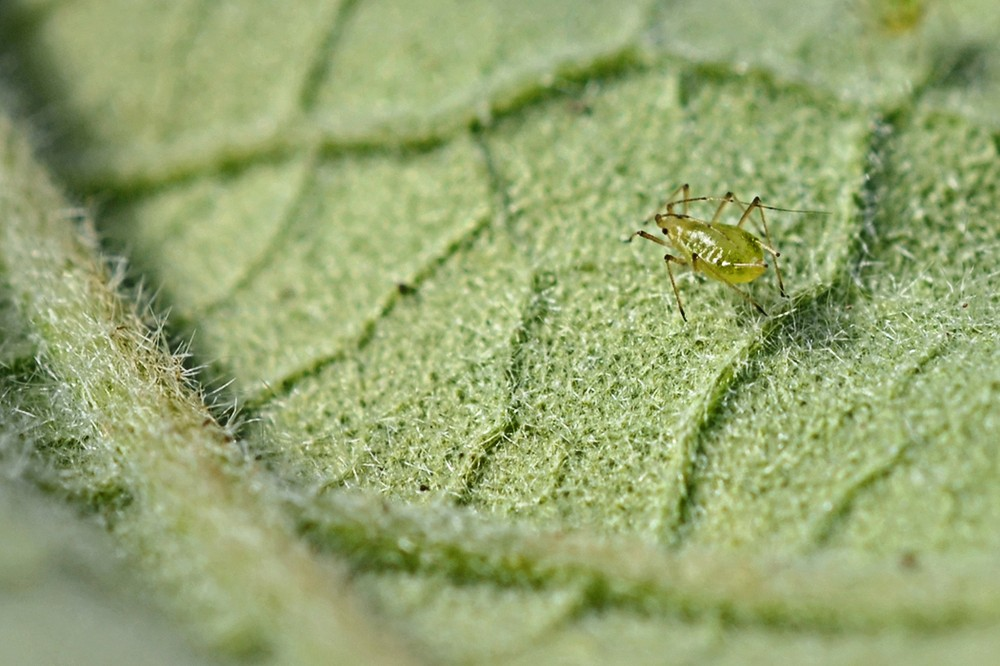Pulgon: (614, 179, 807, 324)
